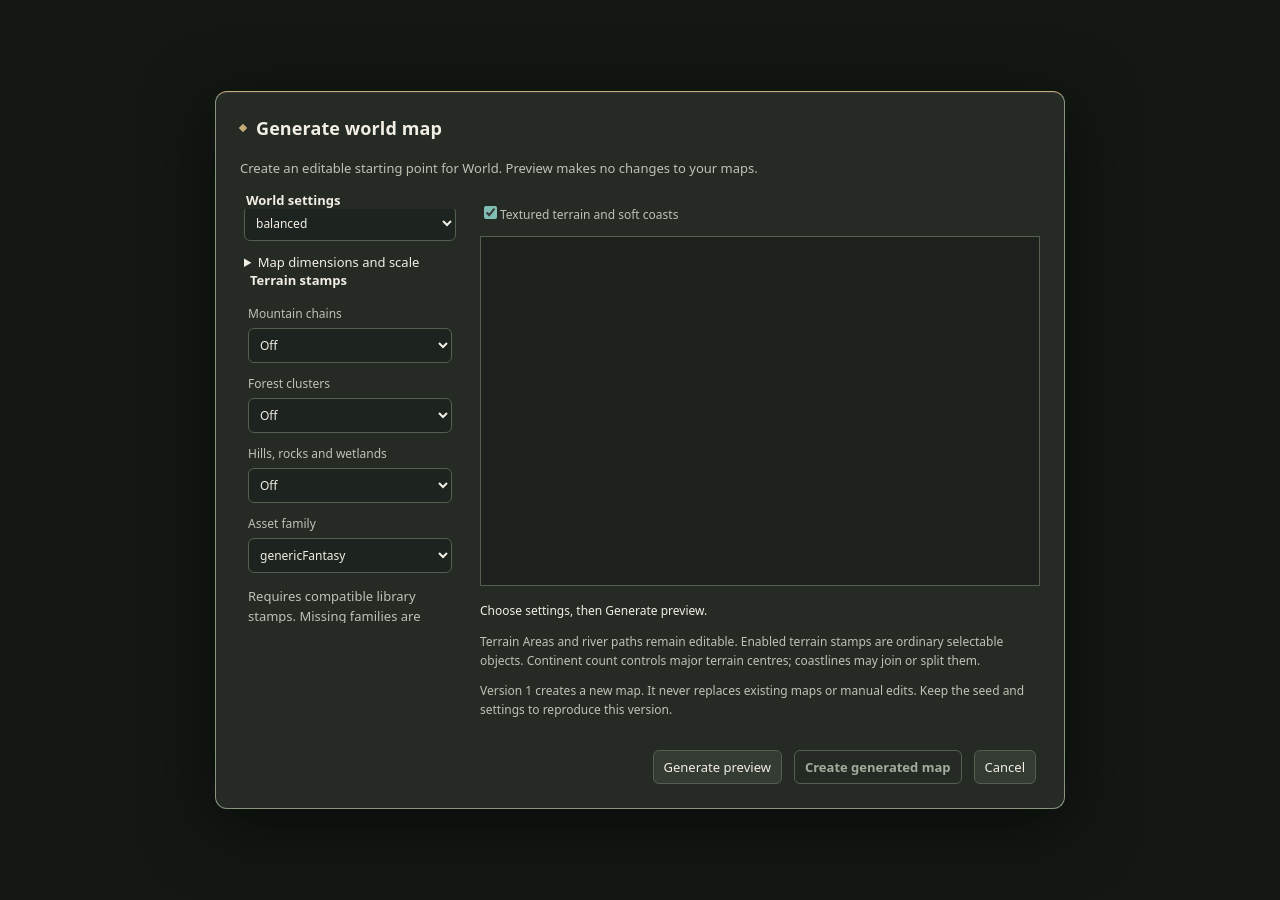
Scenario: minimal theme disables scatter density by default without silently removing existing generated objects
This screenshot has width=1280, height=900.
(page scrolled)
Select "High" in the dropdown named "forests stamp density". click: (350, 415)
box: [248,398,452,433]
(page scrolled)
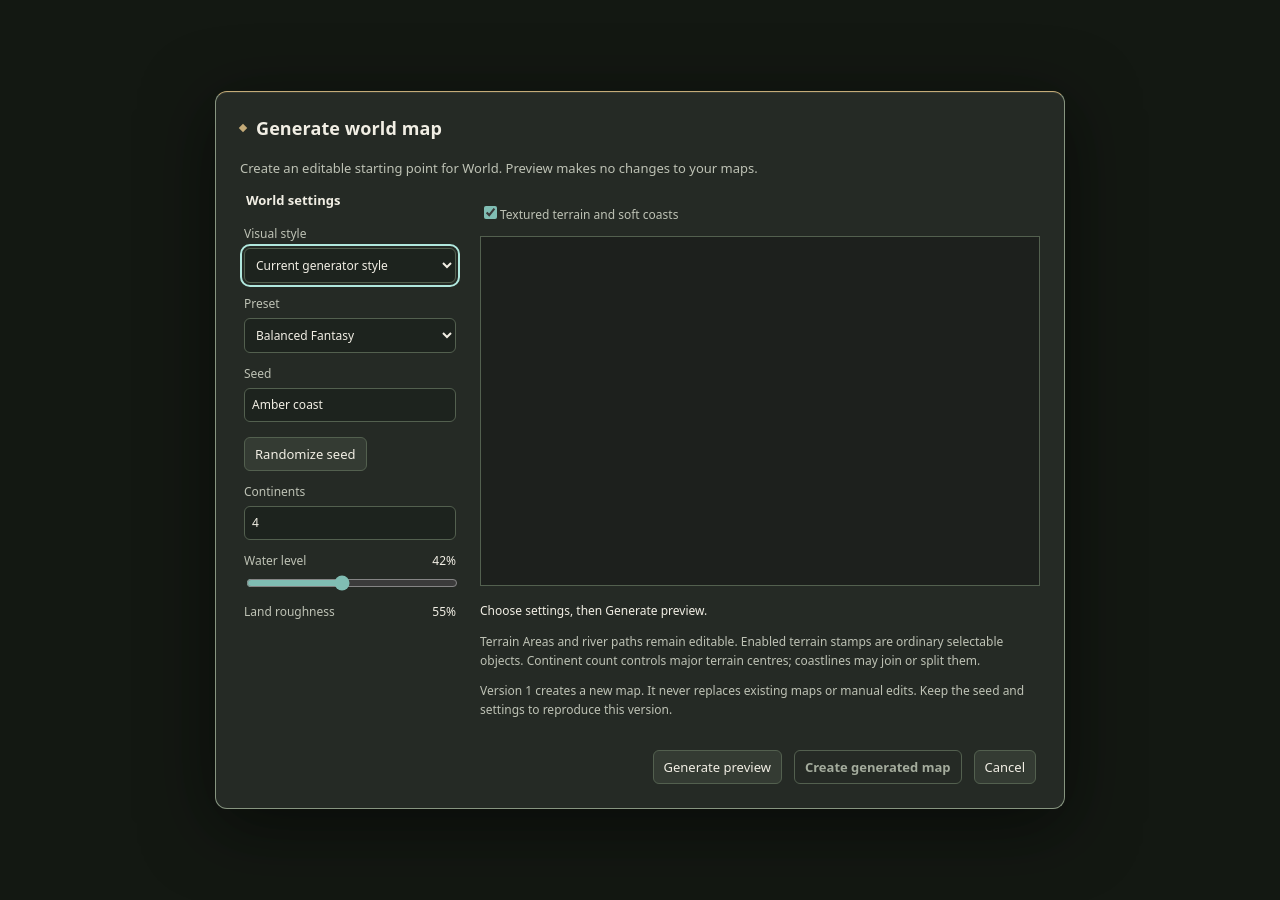
Select "Minimal Political" in the dropdown labelled "Visual style". click: (350, 265)
box: [244,248,456,283]
(page scrolled)
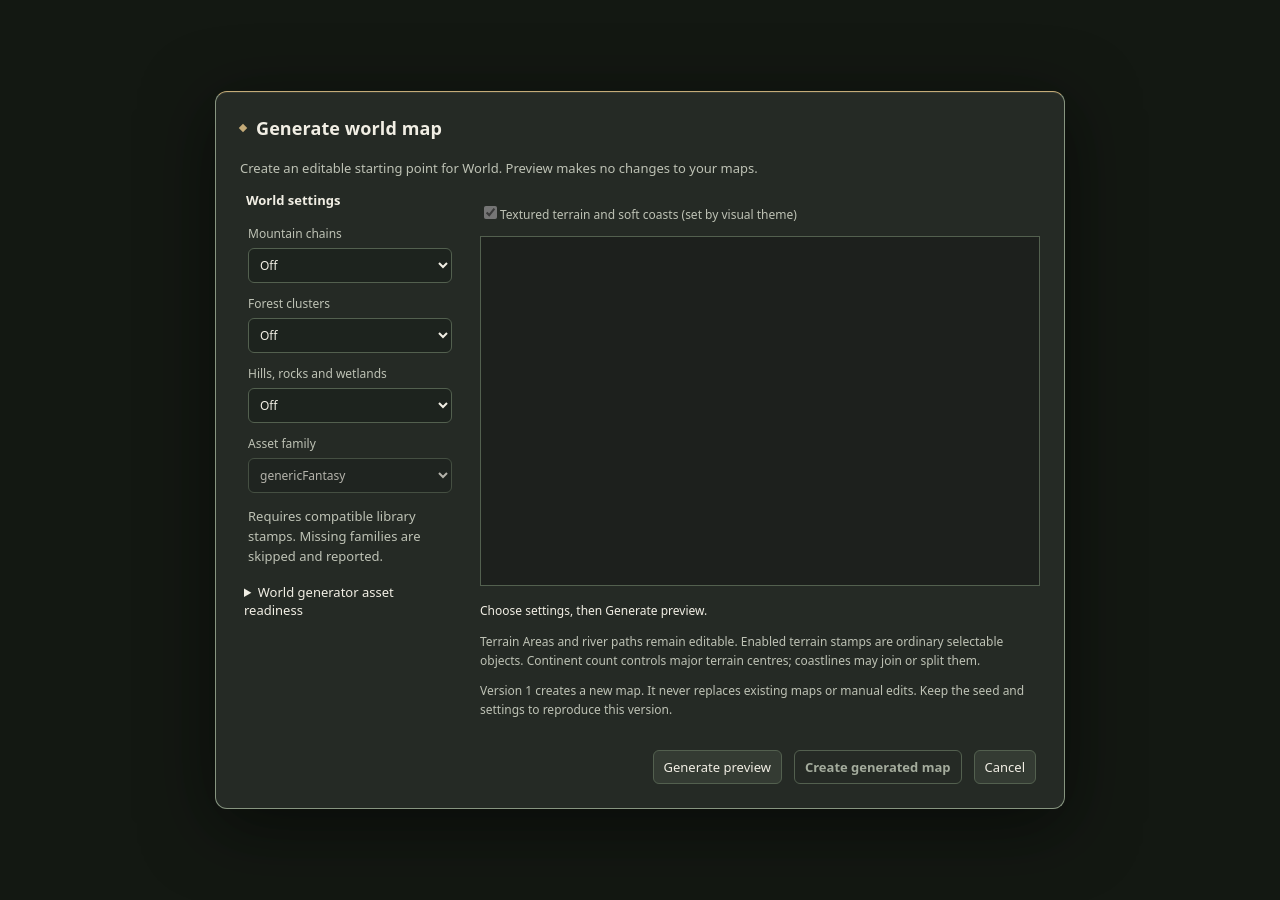
Check: the dropdown named "Scatter asset theme" shows "genericFantasy", box [248,458,452,493]
